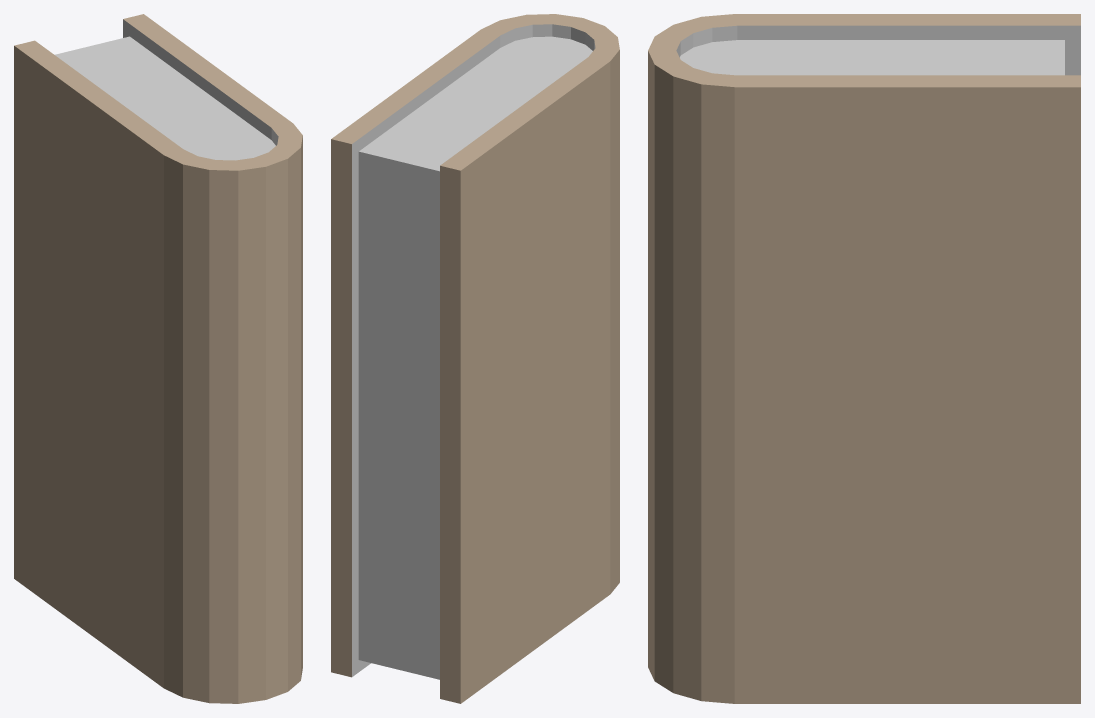
Rendered from book.glb.
3 renders of one model, left to right at view 1: azimuth 30°, elevation 25°; view 2: azimuth 150°, elevation 25°; view 3: azimuth 270°, elevation 25°, orthographic. The views are drawn at different scales.
Parts seen in each view (by area): view 1: book; view 2: book; view 3: book.
Part boxes in pixels (<box>): book: <box>14,14,302,703</box>; book: <box>331,14,619,703</box>; book: <box>648,14,1080,703</box>.
Bounding box in the file's own units: 0.0344 × 0.1351 × 0.0859.
1 material, 1 textured.
